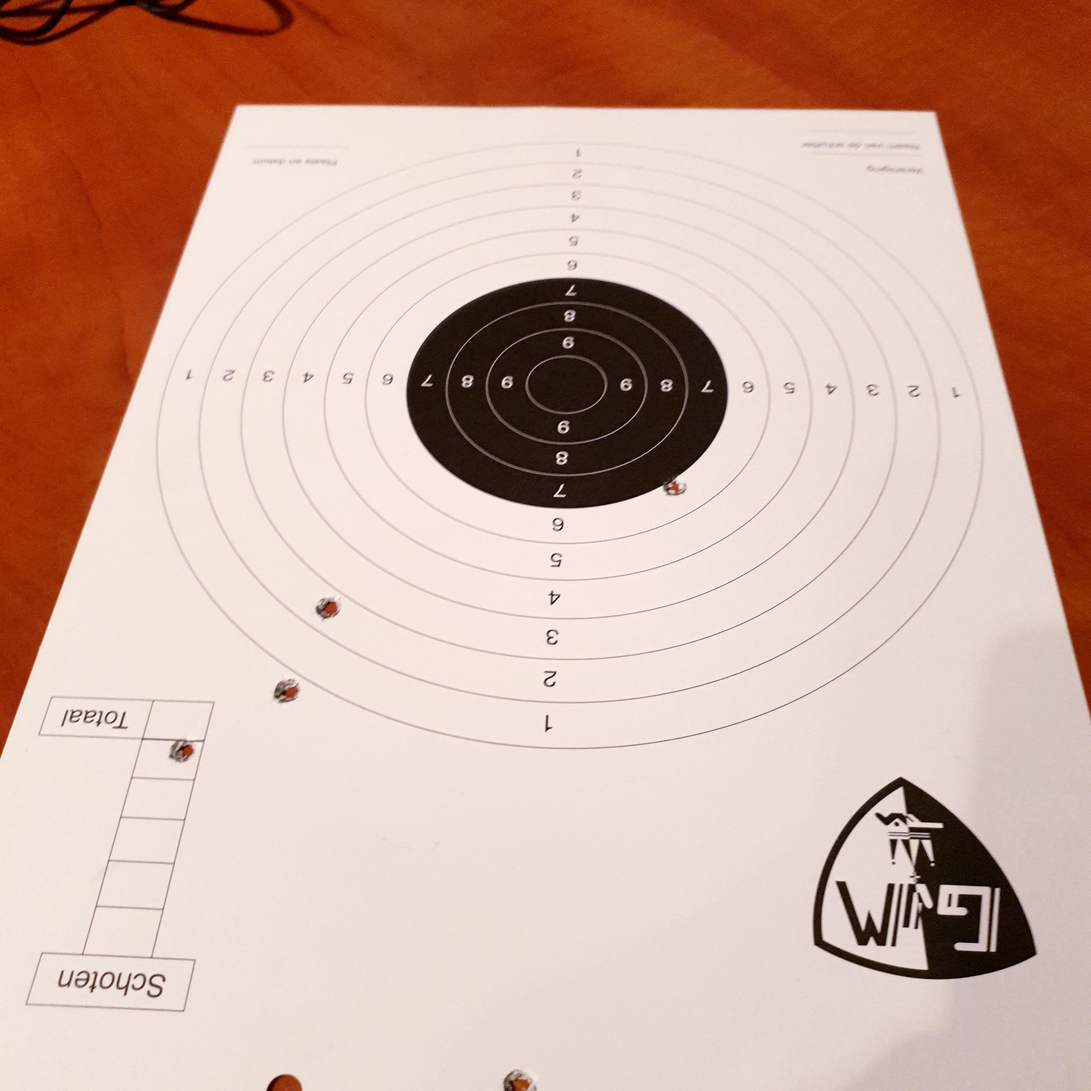hole: (312, 594, 346, 622), (166, 735, 198, 764), (499, 1070, 542, 1091), (271, 676, 301, 705), (659, 475, 689, 498)
